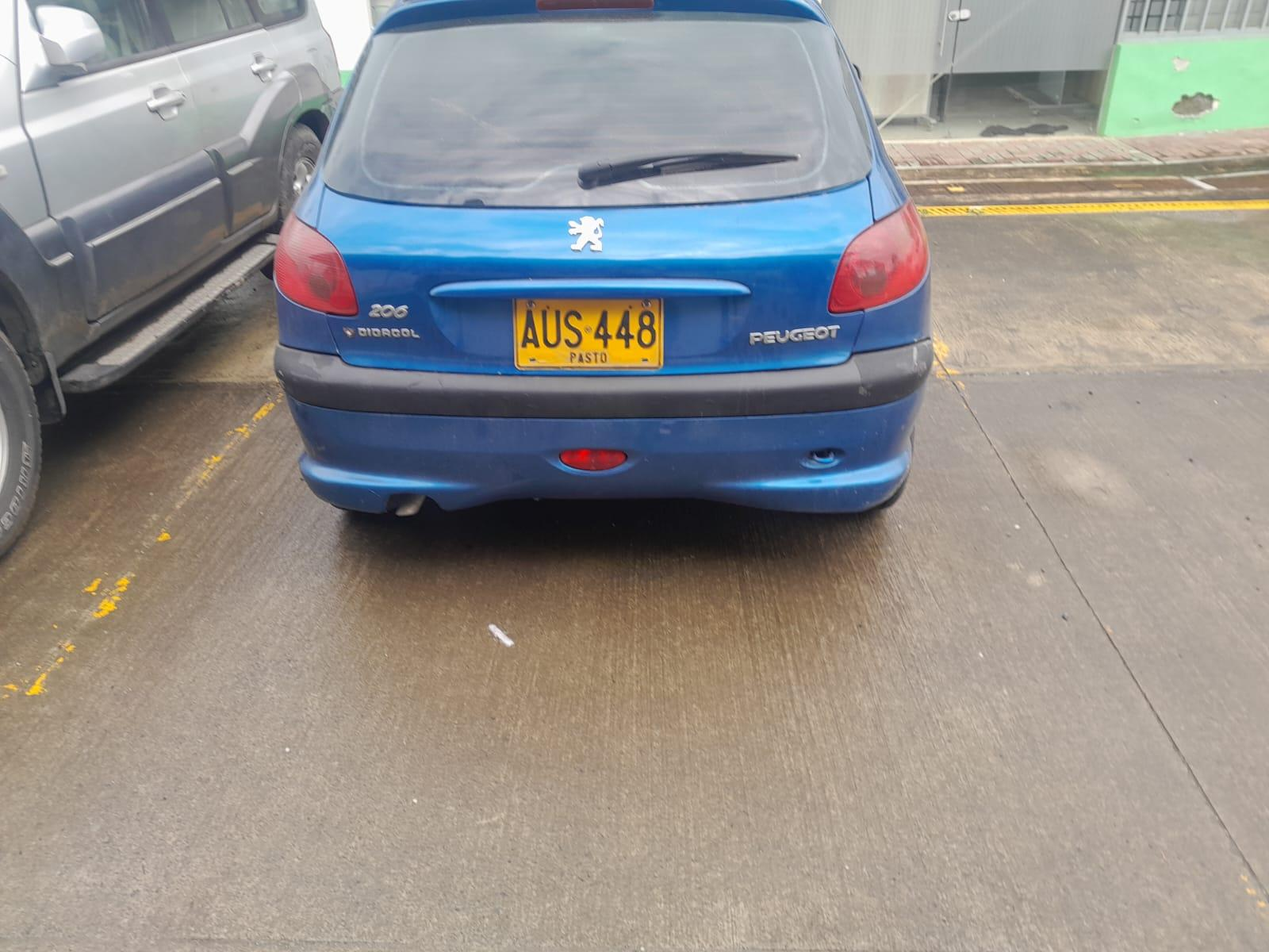placa: (513, 298, 664, 370)
